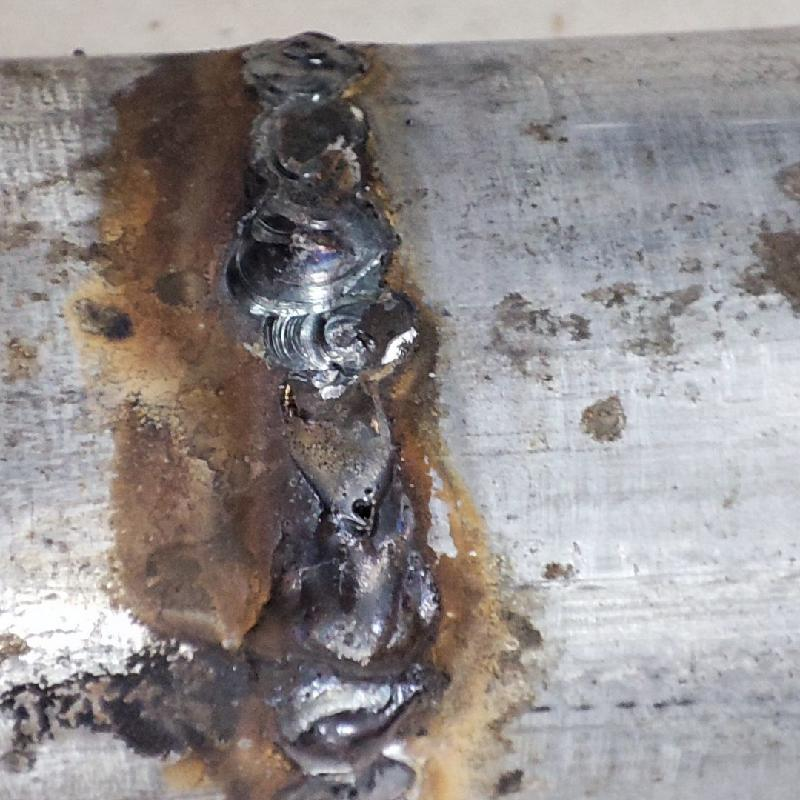Not_fully_soldered: (255, 310, 448, 536)
Surface_pores: (330, 477, 390, 533)
Weld: (248, 536, 452, 786)
wrong_size: (223, 30, 398, 308)
